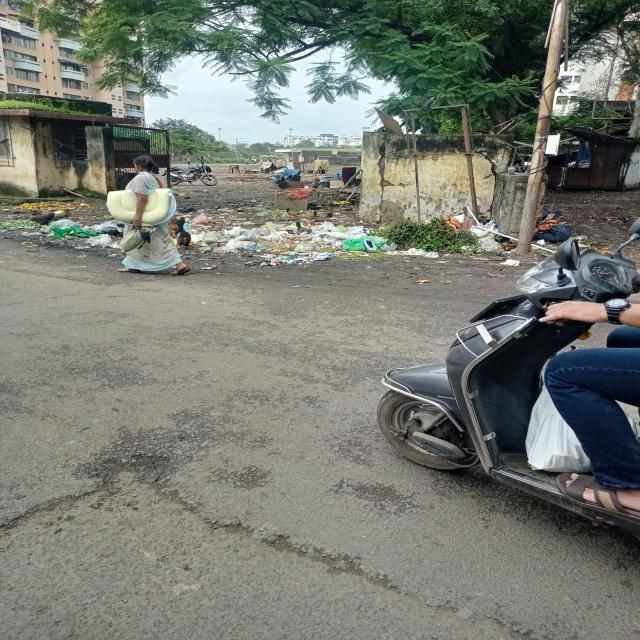garbage: (172, 210, 517, 258), (7, 203, 118, 248)
